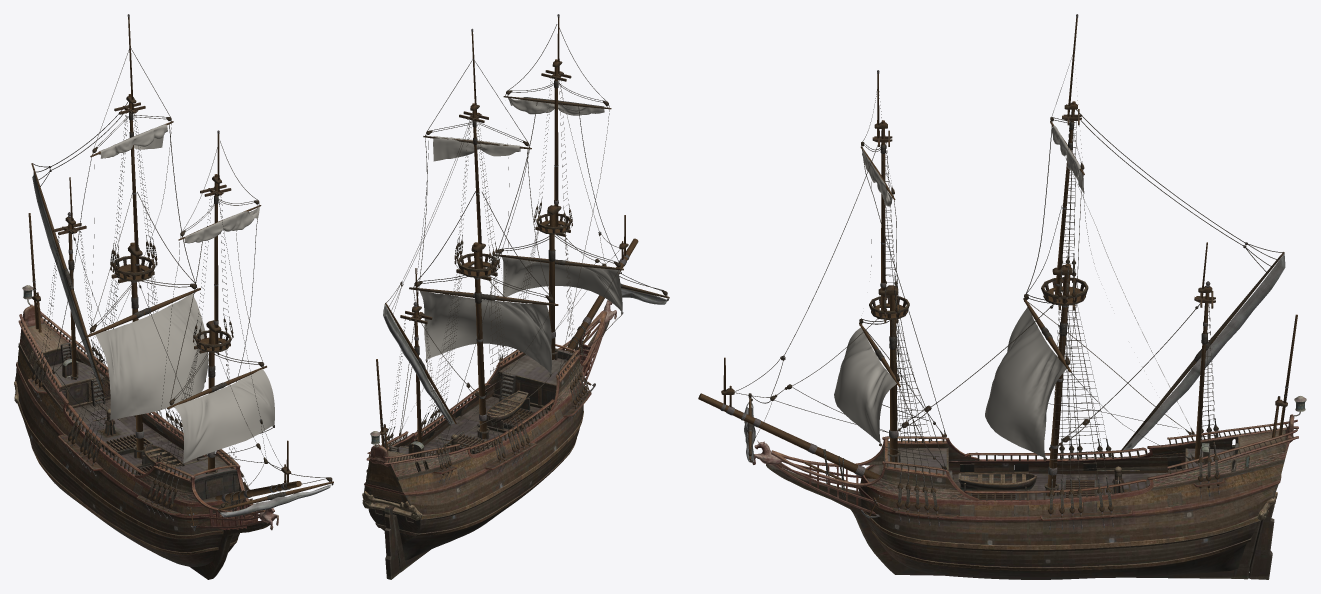
Rendered from dutch_ship_medium_2k.glb.
3 views of the same model, side by side, from view 1: azimuth 30°, elevation 25°; view 2: azimuth 150°, elevation 25°; view 3: azimuth 270°, elevation 25° (orthographic). The views are drawn at different scales.
Parts seen in each view (by area): view 1: dutch_ship_medium_hull, dutch_ship_medium_rigging, dutch_ship_medium_sails; view 2: dutch_ship_medium_hull, dutch_ship_medium_rigging, dutch_ship_medium_sails; view 3: dutch_ship_medium_hull, dutch_ship_medium_rigging, dutch_ship_medium_sails.
Part boxes in pixels (left/top/right/bottom): dutch_ship_medium_hull: left=14, top=285, right=278, bottom=579; dutch_ship_medium_rigging: left=28, top=14, right=333, bottom=531; dutch_ship_medium_sails: left=95, top=124, right=274, bottom=462; dutch_ship_medium_hull: left=362, top=300, right=616, bottom=579; dutch_ship_medium_rigging: left=376, top=14, right=669, bottom=482; dutch_ship_medium_sails: left=420, top=97, right=622, bottom=372; dutch_ship_medium_hull: left=752, top=396, right=1306, bottom=579; dutch_ship_medium_rigging: left=698, top=14, right=1297, bottom=529; dutch_ship_medium_sails: left=834, top=126, right=1084, bottom=457.
Bounding box in the file's own units: 6.81 × 24.66 × 24.07.
Materials: 3 (2 with a texture image).
